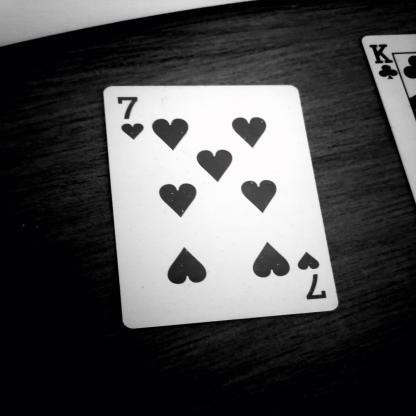7H: (295, 251, 337, 310), (115, 88, 150, 146)
